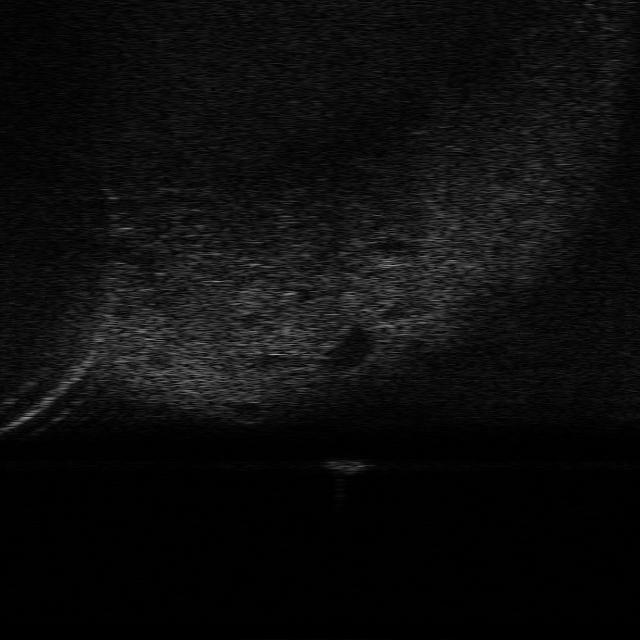cube: (318, 456, 374, 476)
